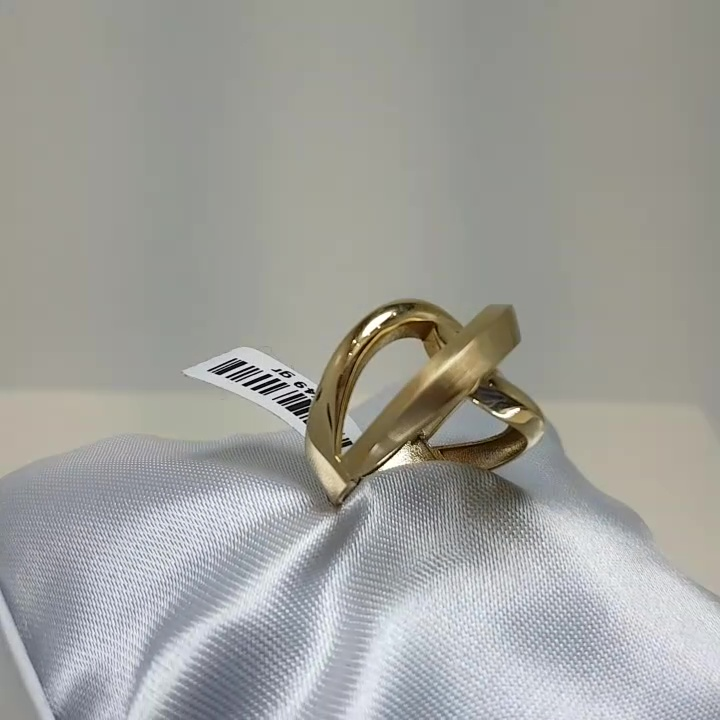Ring 3: (292, 277, 551, 548)
